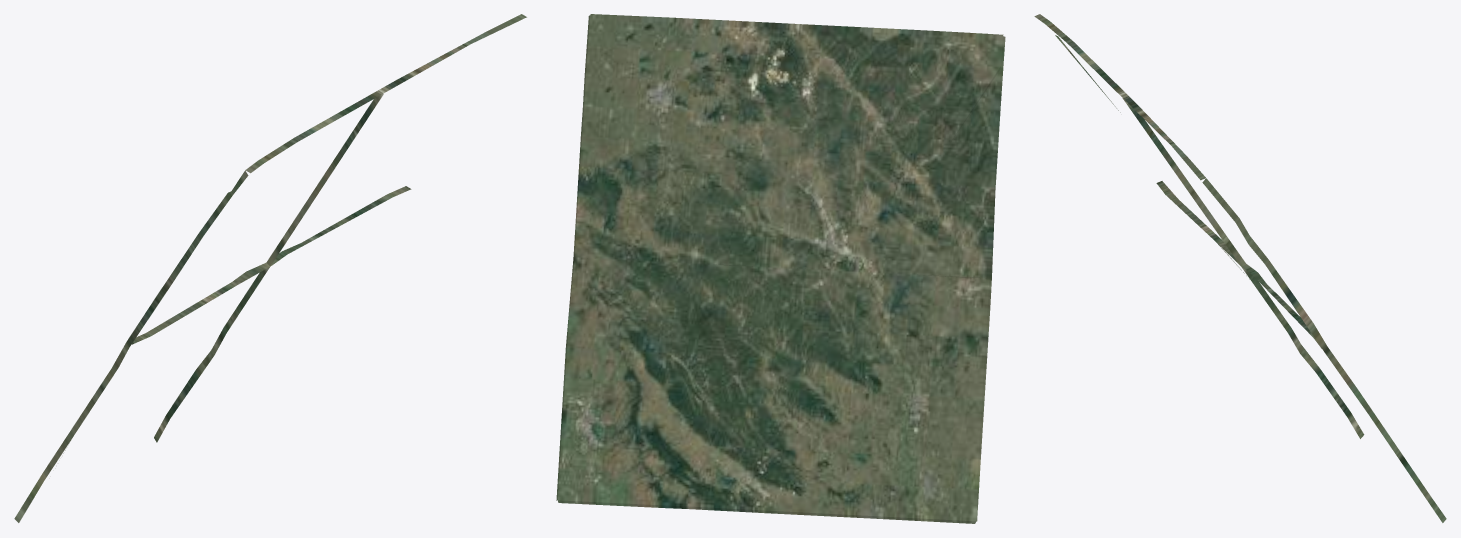
3 renders of one model, left to right at view 1: azimuth 30°, elevation 25°; view 2: azimuth 150°, elevation 25°; view 3: azimuth 270°, elevation 25°, orthographic. The views are drawn at different scales.
Bounding box in the file's own units: 157183 × 135638 × 130078.
1 material, 1 textured.
